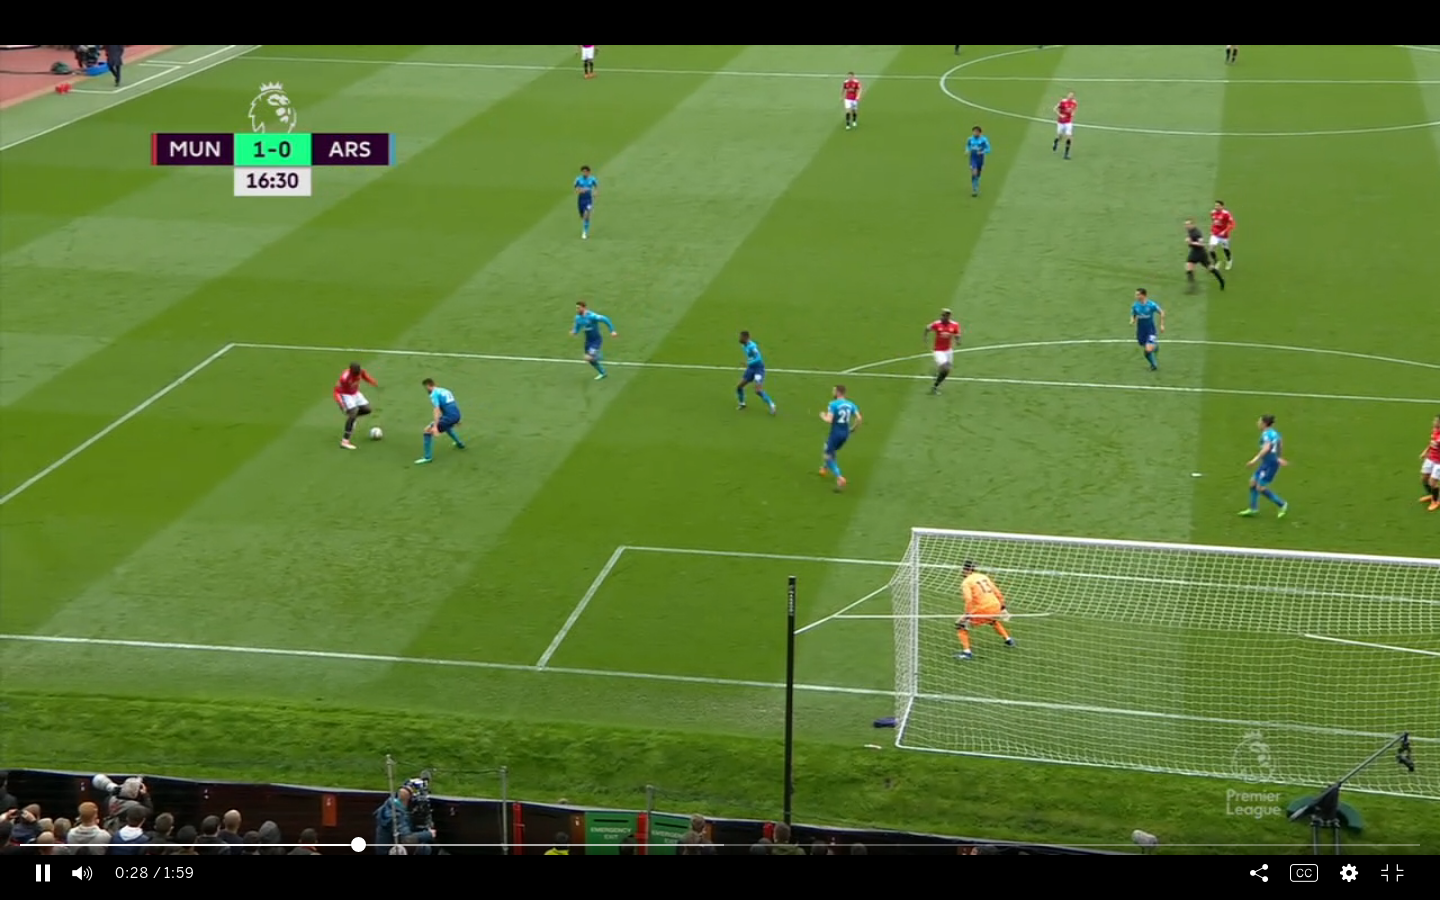referee: (1178, 216, 1222, 305)
soccer player: (952, 557, 1016, 665), (1236, 412, 1292, 532), (815, 383, 865, 500), (565, 297, 622, 394), (730, 323, 782, 420), (413, 374, 464, 468), (1121, 283, 1167, 380), (332, 354, 376, 451), (921, 303, 965, 400), (962, 123, 995, 205), (1048, 88, 1081, 165), (1207, 199, 1239, 272), (572, 162, 599, 245), (1416, 414, 1439, 509), (835, 69, 867, 132)
soccerball: (367, 420, 388, 445)
